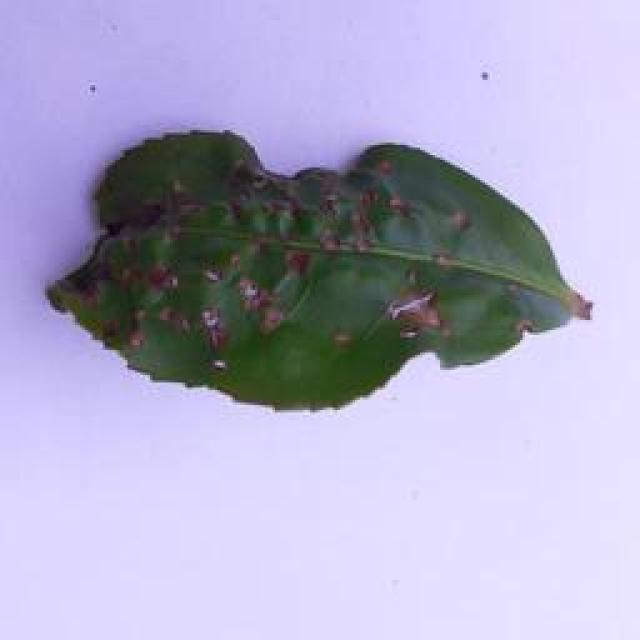Helopeltis: (39, 118, 599, 424)
